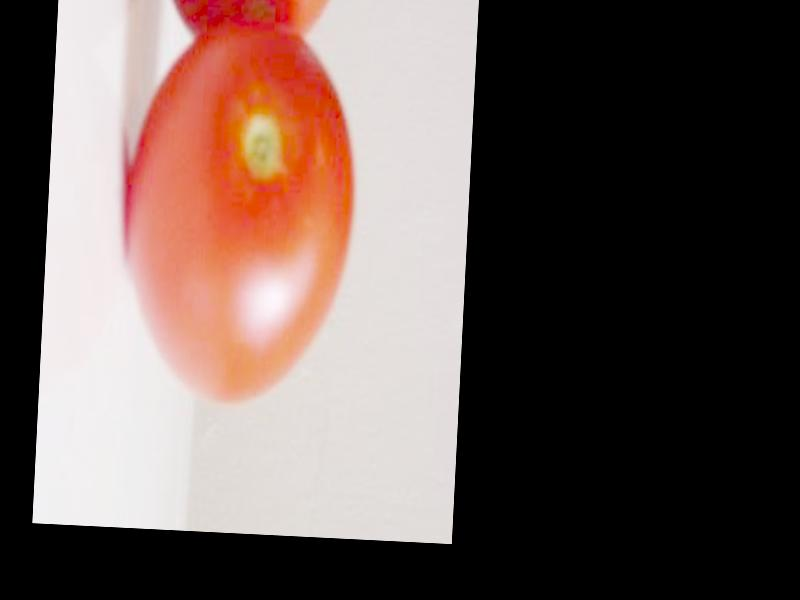Tomato: (118, 17, 362, 409)
